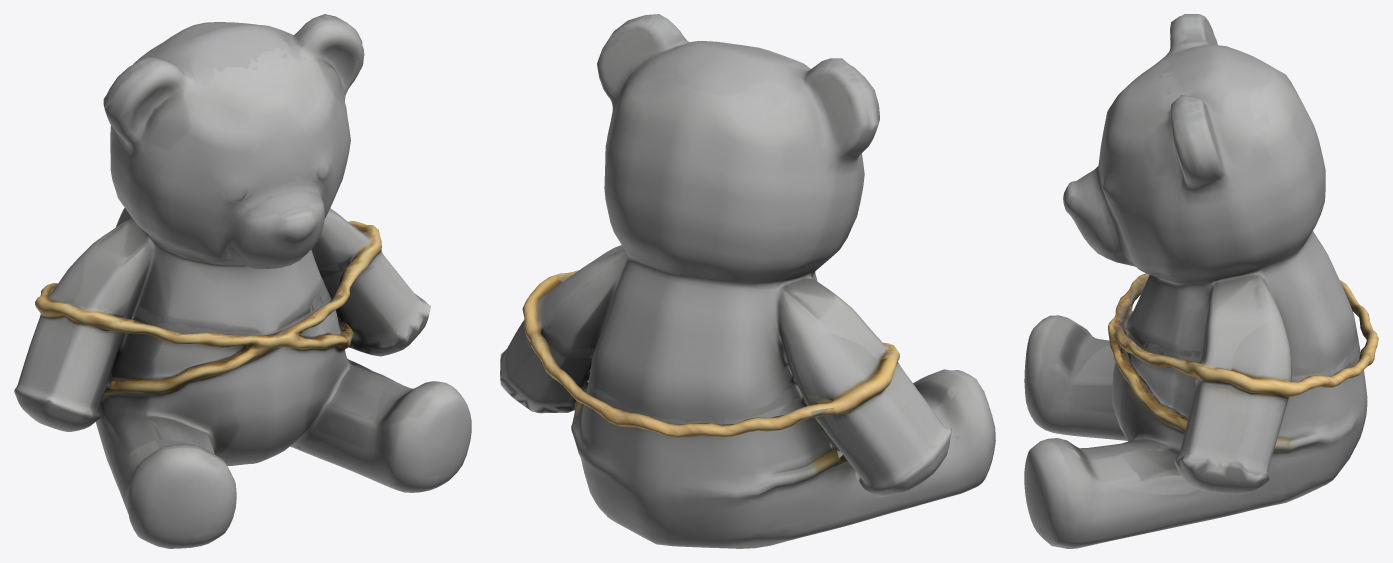
The model's file is Meshy_AI_Bear_0106182440_texture.fbx.
3 renders of one model, left to right at view 1: azimuth 30°, elevation 25°; view 2: azimuth 150°, elevation 25°; view 3: azimuth 270°, elevation 25°, orthographic. The views are drawn at different scales.
Visible parts, largest first — view 1: Mesh0; view 2: Mesh0; view 3: Mesh0.
Part boxes in pixels (left/top/right/bottom): Mesh0: left=14, top=14, right=471, bottom=548; Mesh0: left=500, top=14, right=995, bottom=548; Mesh0: left=1024, top=14, right=1378, bottom=548.
Size of the model in its own units: 184 by 191 by 144.
1 material, 1 textured.
